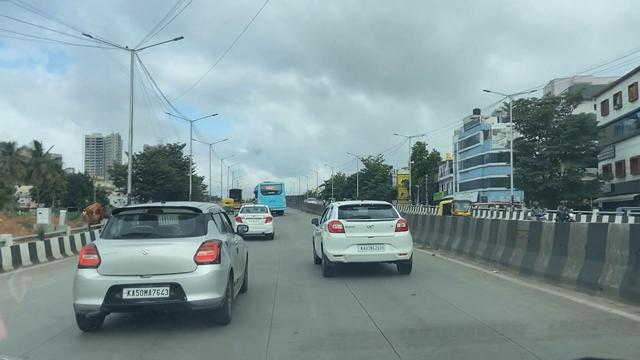HMV: (245, 167, 288, 222)
LMV: (49, 180, 250, 353), (307, 195, 417, 286), (225, 195, 278, 247)
